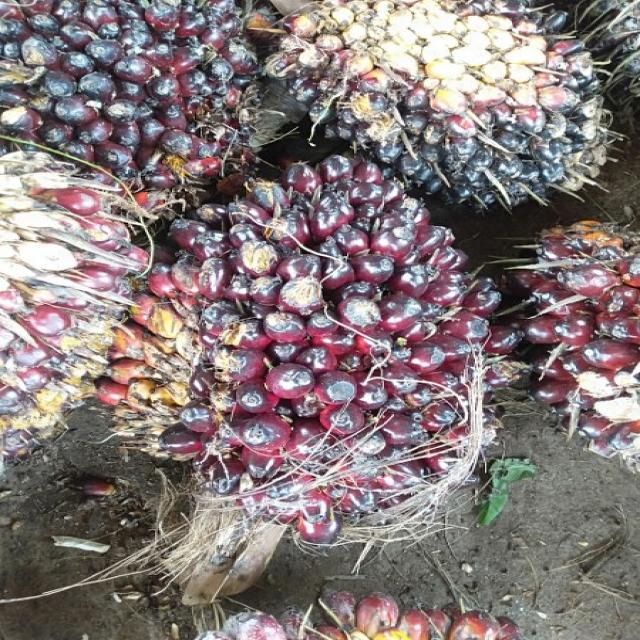fraksi 1: (107, 154, 512, 524)
